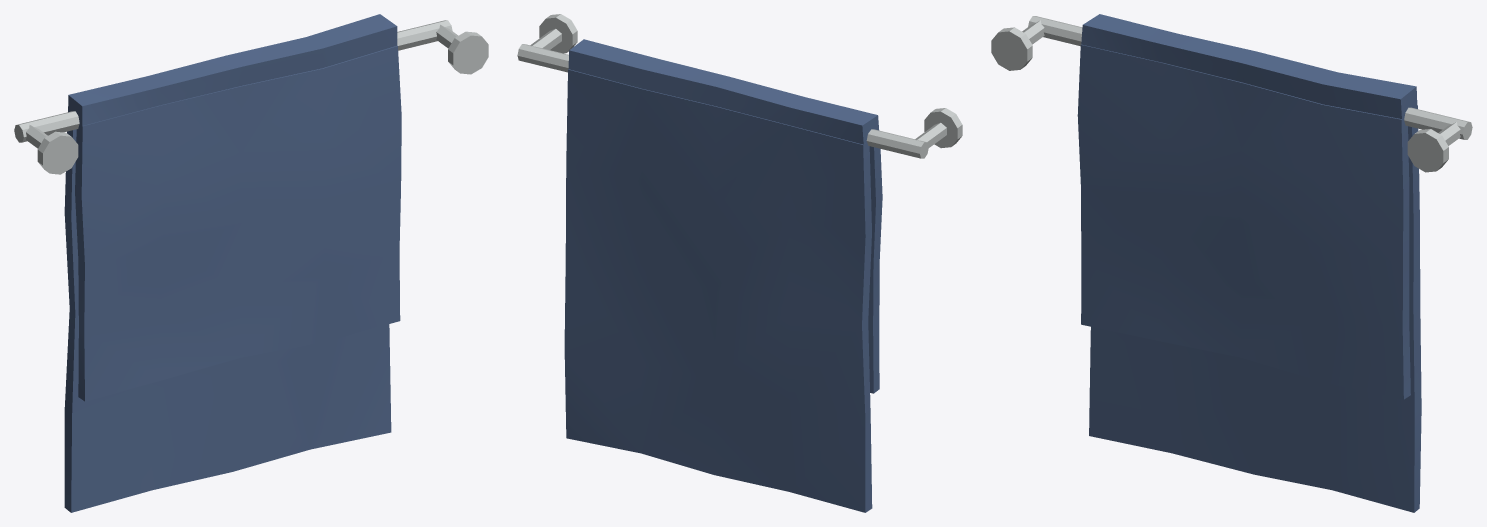
Rendered from towel_rack.fbx.
The picture shows the model from 3 angles, left to right: view 1: azimuth 30°, elevation 25°; view 2: azimuth 150°, elevation 25°; view 3: azimuth 330°, elevation 25°; orthographic projection. The views are drawn at different scales.
Parts seen in each view (by area): view 1: towel_rack_cloth, towel_rack; view 2: towel_rack_cloth, towel_rack; view 3: towel_rack_cloth, towel_rack.
Boxes of the visible parts, x1,y1,x2,y2 form: towel_rack_cloth: [64, 14, 401, 512]; towel_rack: [14, 20, 488, 174]; towel_rack_cloth: [564, 39, 882, 512]; towel_rack: [517, 14, 962, 158]; towel_rack_cloth: [1077, 14, 1421, 512]; towel_rack: [991, 16, 1472, 172].
Size of the model in its own units: 47.8 by 42.69 by 7.88.
